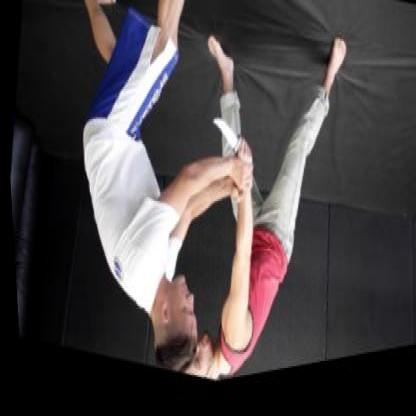knife: (204, 114, 256, 180)
